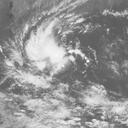cyclone: (24, 27, 74, 75)
